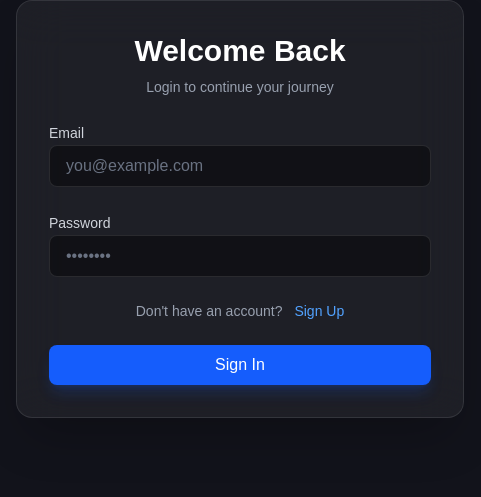
Test: auth flow › shows an error for invalid login credentials
Type "ghost@example.com" into the field with test id "auth-login-email".
click(240, 166); type("ghost@example.com")  # box [49,145,431,187]
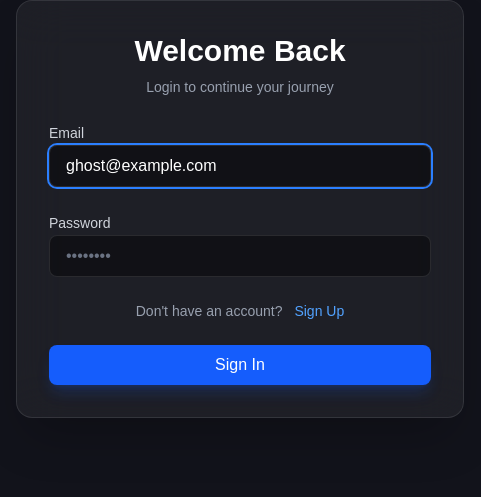
Type "wrongpassword" into the password field with test id "auth-login-password".
click(240, 256); type("wrongpassword")  # box [49,235,431,277]
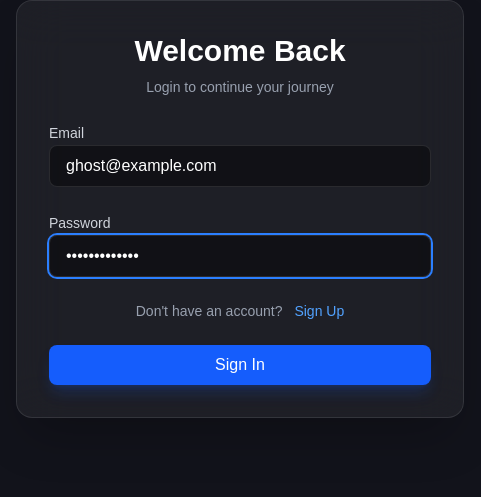
Click the button with test id "auth-login-submit".
click(240, 365)  # box [49,345,431,385]
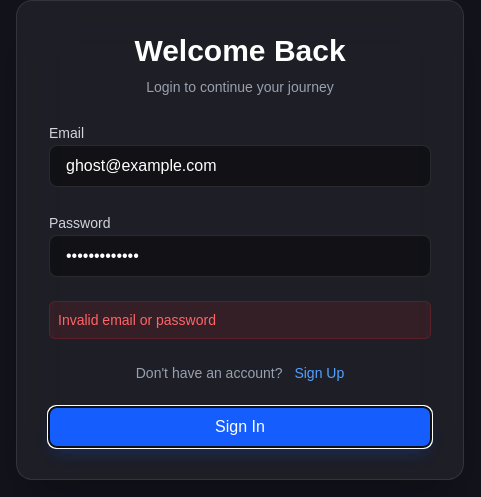
Now the text "Invalid email or password" is shown, box [49,301,431,339]
